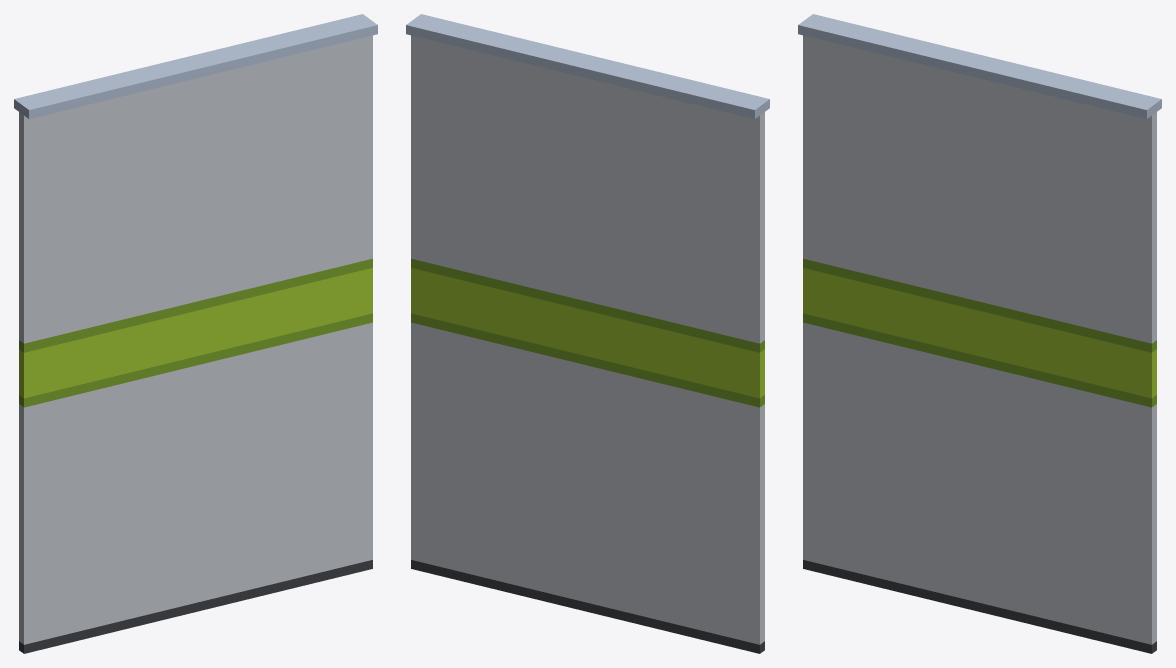
Rendered from door-lab.obj.
3 views of the same model, side by side, from view 1: azimuth 30°, elevation 25°; view 2: azimuth 150°, elevation 25°; view 3: azimuth 330°, elevation 25° (orthographic).
Bounding box in the file's own units: 4 × 6 × 0.3.
Materials: 1 (1 with a texture image).
